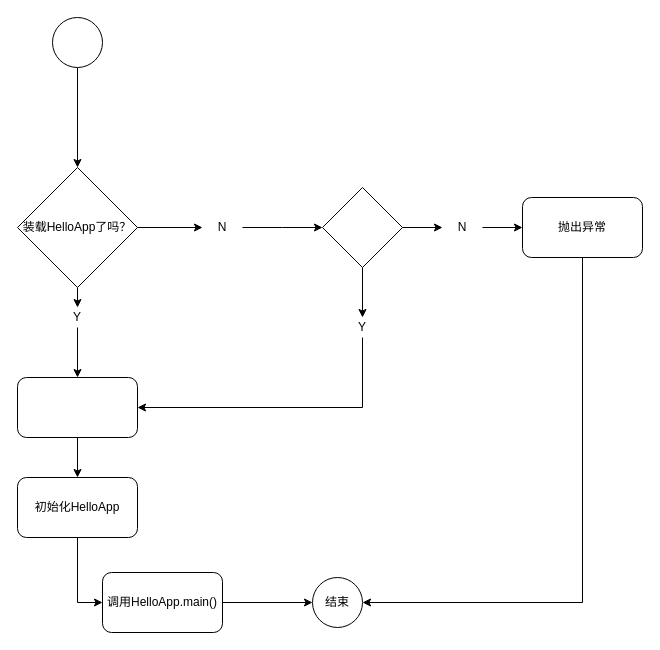
The diagram is 660 pixels wide and 650 high, and some of its shapes have lost their labels. The shapes that lost their labels are listed below. From the top down, each one's centre as x and y in pixels, then its label:
At point 77,42: "开始".
At point 362,227: "ClassLoader装载顺利？".
At point 77,407: "链接".
